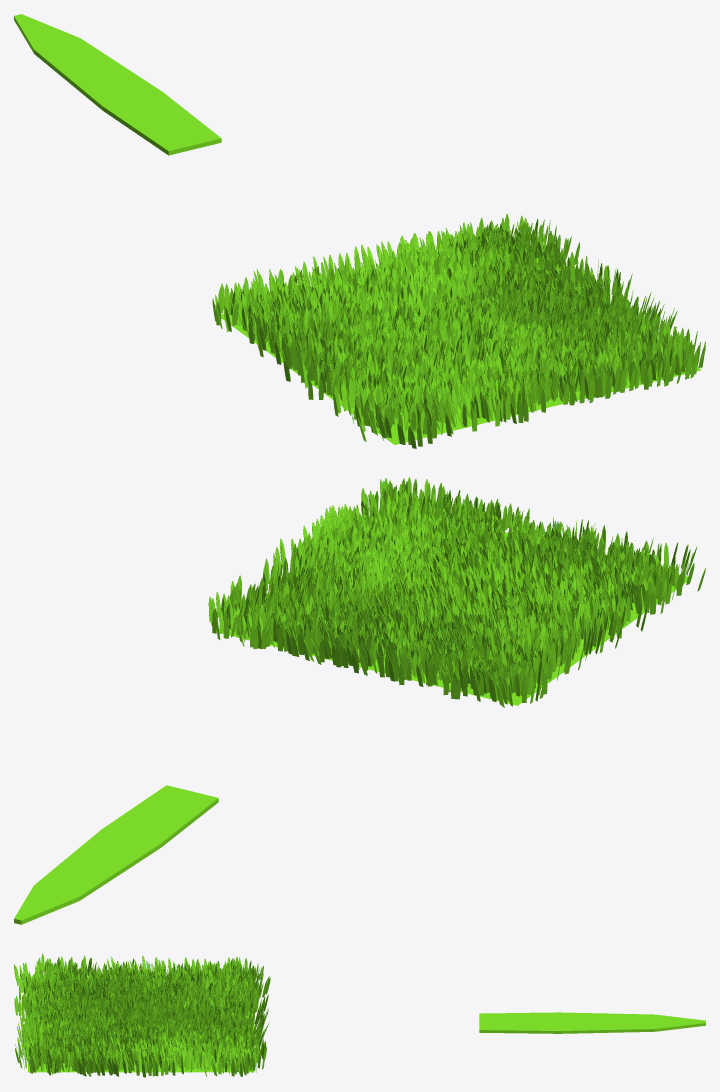
The model's file is grama5.fbx.
3 views of the same model, one above another, from view 1: azimuth 30°, elevation 25°; view 2: azimuth 150°, elevation 25°; view 3: azimuth 270°, elevation 25° (orthographic). The views are drawn at different scales.
Visible parts, largest first — view 1: Plane.001, Plane; view 2: Plane.001, Plane; view 3: Plane.001, Plane.
Boxes of the visible parts, left/top/right/bottom form: Plane.001: left=14, top=14, right=221, bottom=155; Plane: left=221, top=245, right=701, bottom=444; Plane.001: left=14, top=785, right=218, bottom=924; Plane: left=216, top=523, right=692, bottom=705; Plane.001: left=479, top=1012, right=705, bottom=1033; Plane: left=28, top=976, right=254, bottom=1072.
Size of the model in its own units: 230 by 16.98 by 611.
